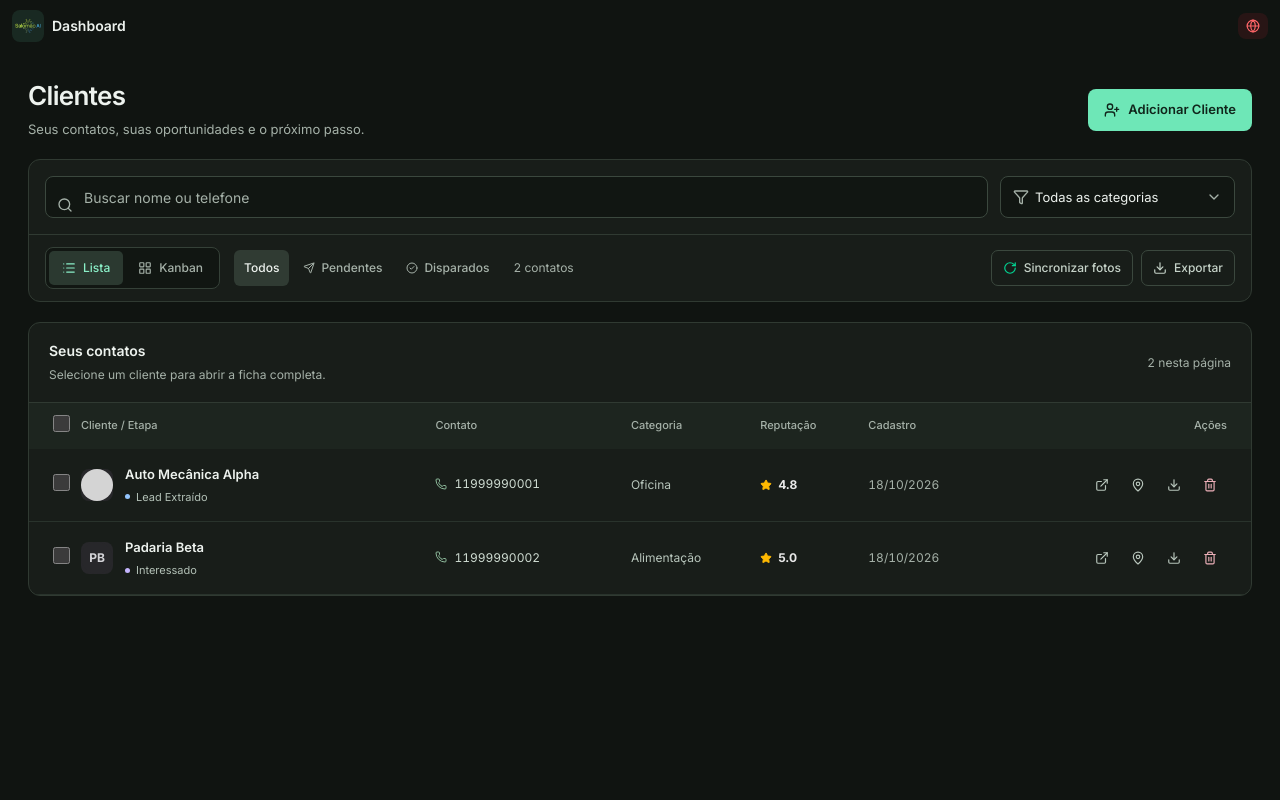
LeadsPage - Sincronização e Hidratação de Fotos › permite cancelar sincronização pelo botão Cancelar e interrompe próximos lotes
Expected: the button "Auto Mecânica Alpha" is shown, [125,465,259,484]
Click the button with aria-label "Sincronizar fotos de todos os leads" at point(1062, 268), box [991,250,1133,286]
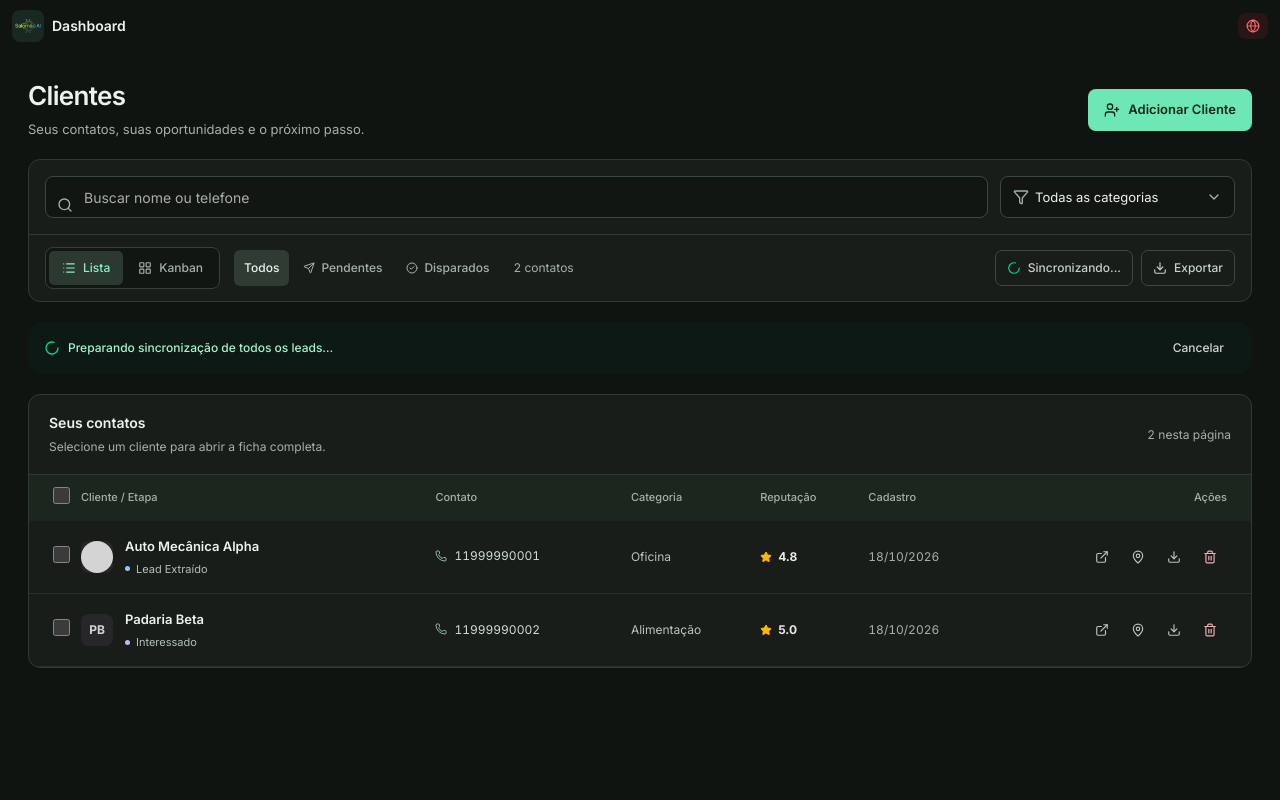
Expected: the button "Cancelar" is shown
Usuário clica em Cancelar enquanto batch 1 está pendente
Click the button "Cancelar" at point(1198, 348), box [1161,334,1236,362]
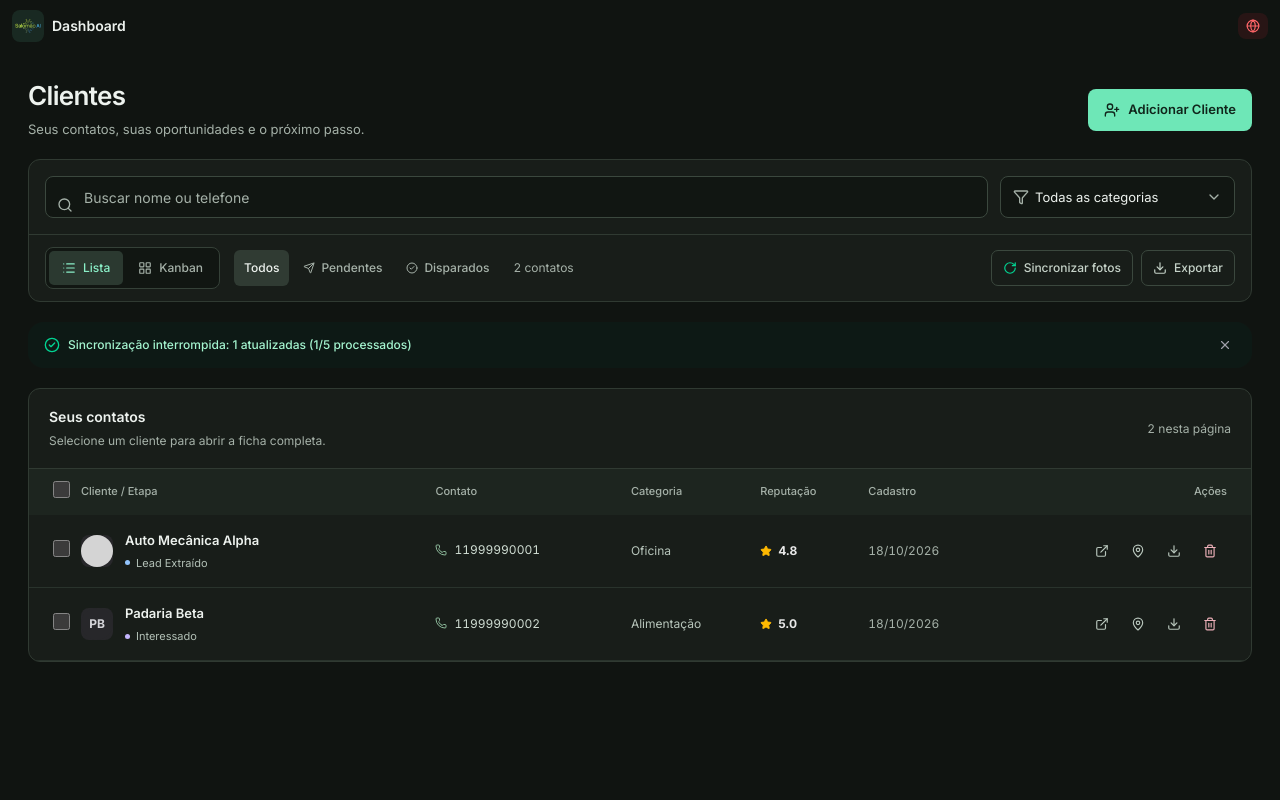
Expected: the text "Sincronização interrompida: 1 atualizadas (1/5 processados)" is shown, [68,337,412,353]
